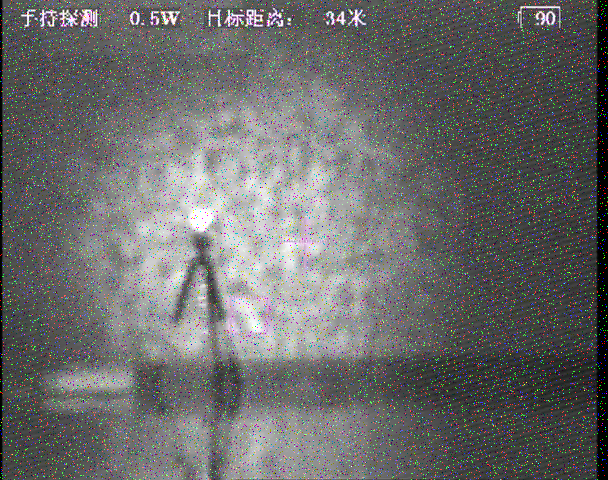my: (186, 206, 213, 234)
